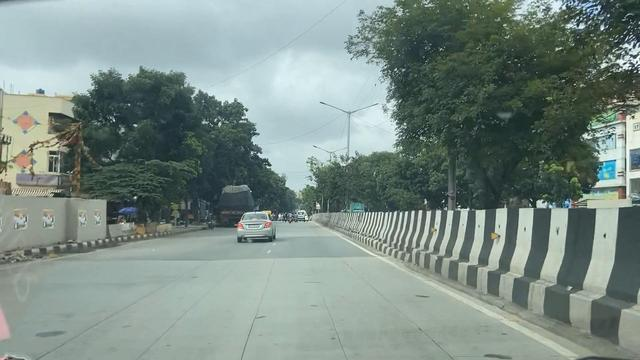LMV: (234, 204, 275, 241)
